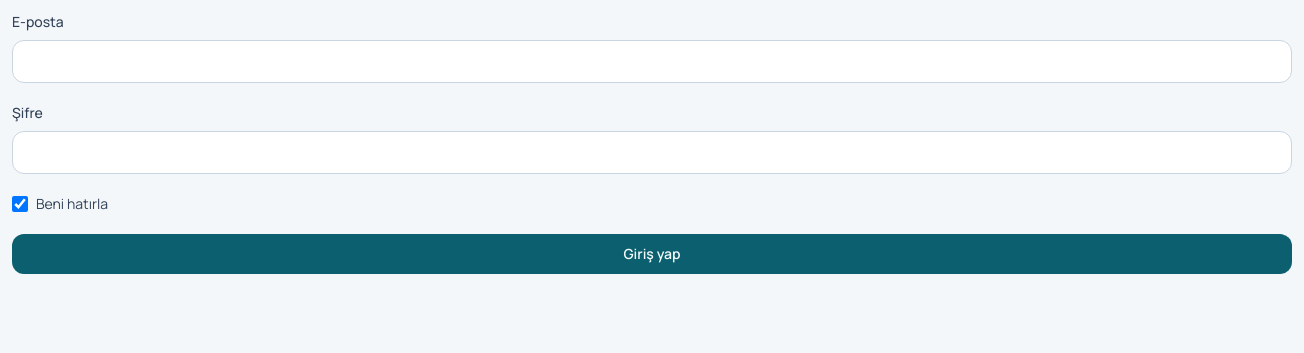
Test: LoginForm › shows API error message
This screenshot has width=1304, height=353.
Type "demo@nakitpilot.local" into the field labelled "E-posta".
click(652, 62); type("demo@nakitpilot.local")  # box top-left (12, 40), bottom-right (1292, 83)
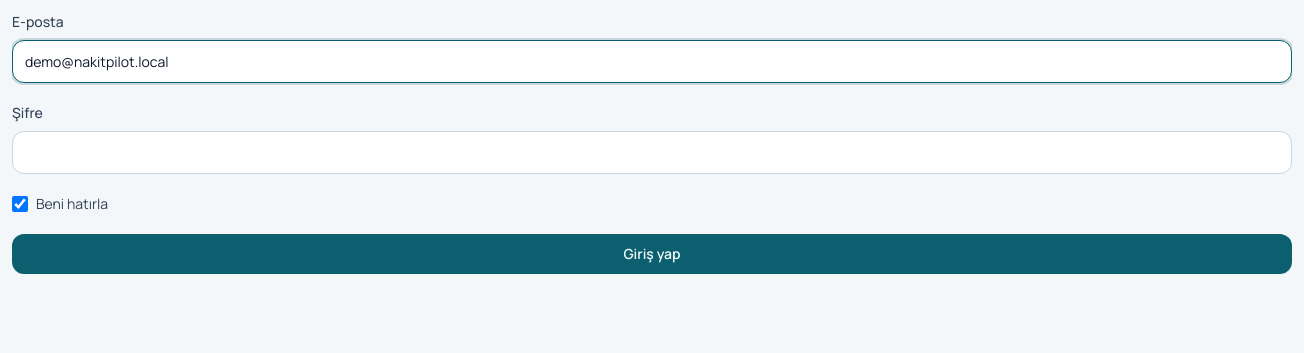
Type "wrong" into the password field labelled "Şifre".
click(652, 152); type("wrong")  # box top-left (12, 131), bottom-right (1292, 174)
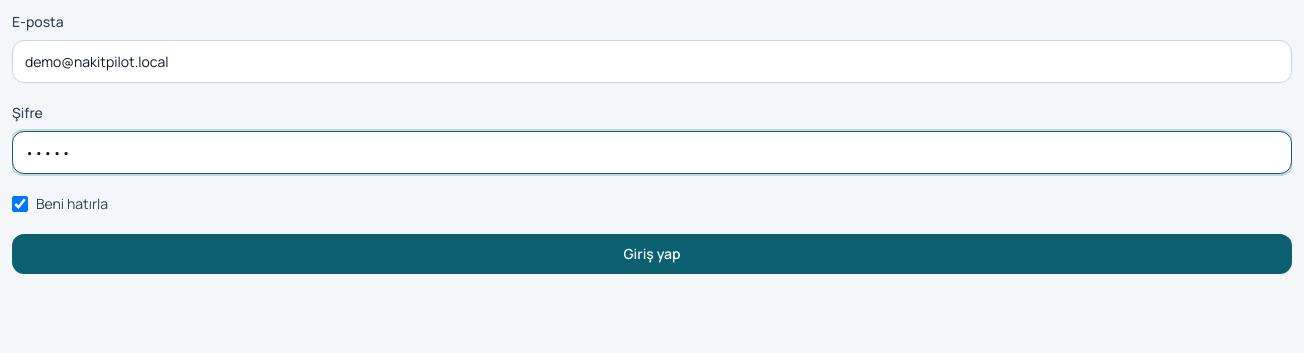
Click the button "Giriş yap".
click(652, 254)  # box top-left (12, 234), bottom-right (1292, 274)
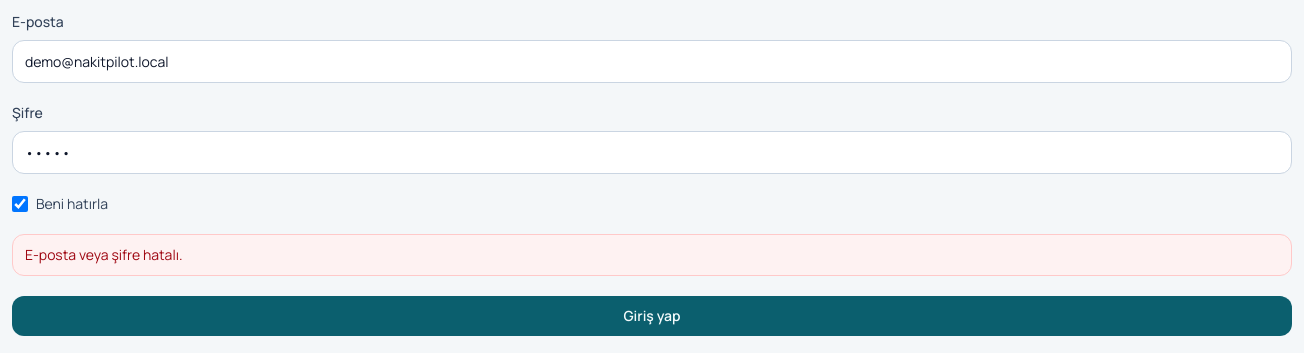
Expected: the text "E-posta veya şifre hatalı." is shown, top-left (12, 234), bottom-right (1292, 276)
